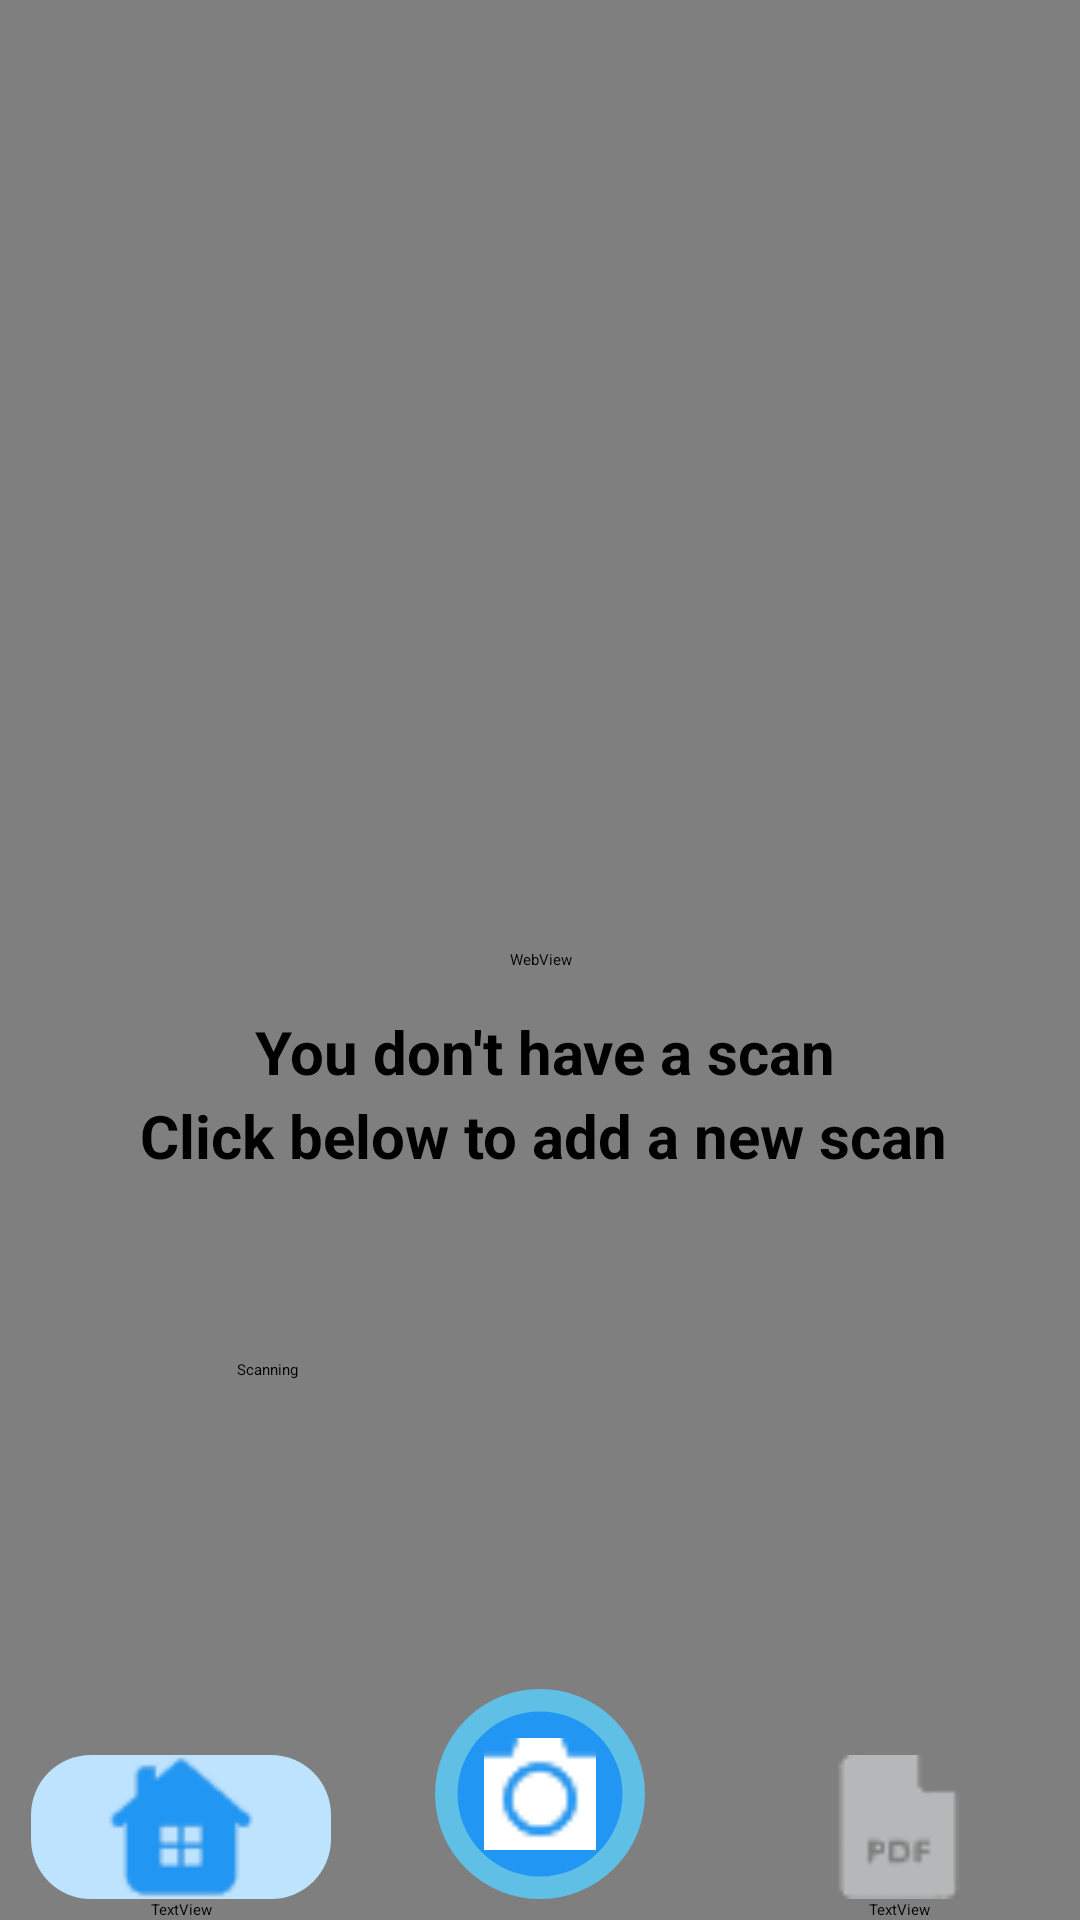

Point at icon controls on the screen. Image size 1080 x 1920, points as (x=x, y=y).
Нажать на PDF файл: (x=898, y=1827)
Нажать на иконку дом: (x=181, y=1827)
Нажать на камеру: (x=540, y=1794)
